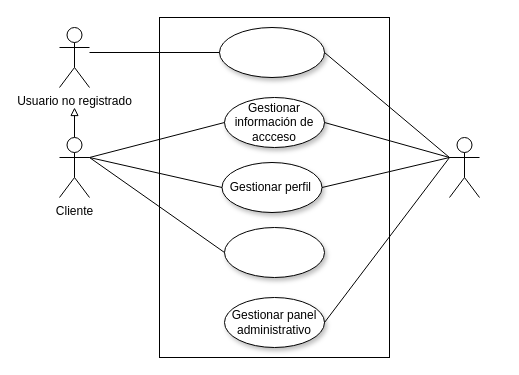
Image size: 519x375. Some labels were removed from this diagram. The shapes that lost their labels are listed below. From the top down, each one's centre as x and y in pixels, then its label:
point 272,53: Visualizar Página de bienvenida
point 464,167: Administrador
point 275,253: Gestionar carrito de compra
